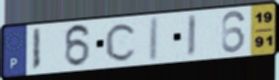6: (63, 22, 95, 70), (220, 9, 247, 55)
C: (104, 21, 140, 63)
I: (146, 15, 161, 64), (30, 27, 43, 73), (186, 13, 198, 59)
